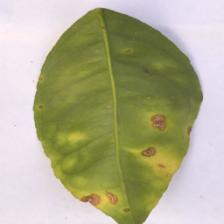canker: (40, 31, 181, 224)
